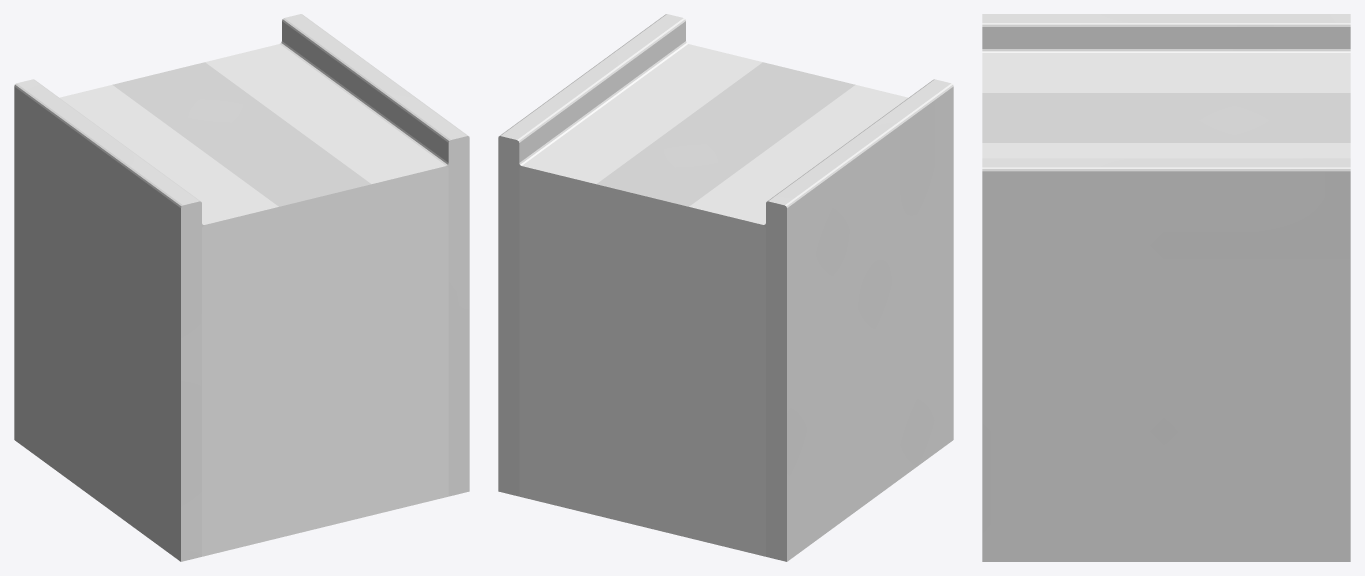
Rendered from road.fbx.
3 views of the same model, side by side, from view 1: azimuth 30°, elevation 25°; view 2: azimuth 150°, elevation 25°; view 3: azimuth 270°, elevation 25° (orthographic). The views are drawn at different scales.
Visible parts, largest first — view 1: road1.001; view 2: road1.001; view 3: road1.001.
Boxes of the visible parts, bbox=[...] form: road1.001: bbox=[14, 14, 469, 561]; road1.001: bbox=[498, 14, 953, 561]; road1.001: bbox=[982, 14, 1350, 561].
Bounding box in the file's own units: 497 × 586 × 497.
